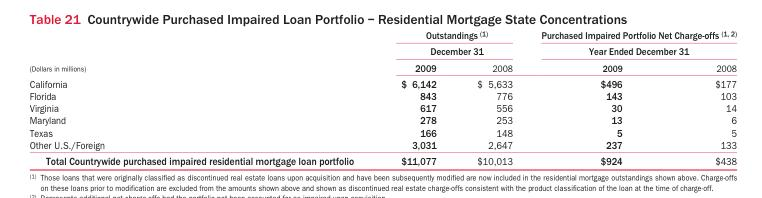table: (28, 28, 736, 166)
table column: (28, 28, 376, 166), (526, 28, 667, 166), (376, 28, 455, 166), (455, 28, 526, 166), (667, 28, 736, 166)
table column header: (28, 28, 736, 75)
table row: (28, 28, 736, 59), (28, 59, 736, 75), (28, 75, 736, 89), (28, 138, 736, 152), (28, 152, 736, 166), (28, 113, 736, 126), (28, 89, 736, 101), (28, 101, 736, 113), (28, 126, 736, 138)
table spanning cell: (28, 28, 376, 75), (526, 28, 736, 59), (376, 28, 526, 59)
